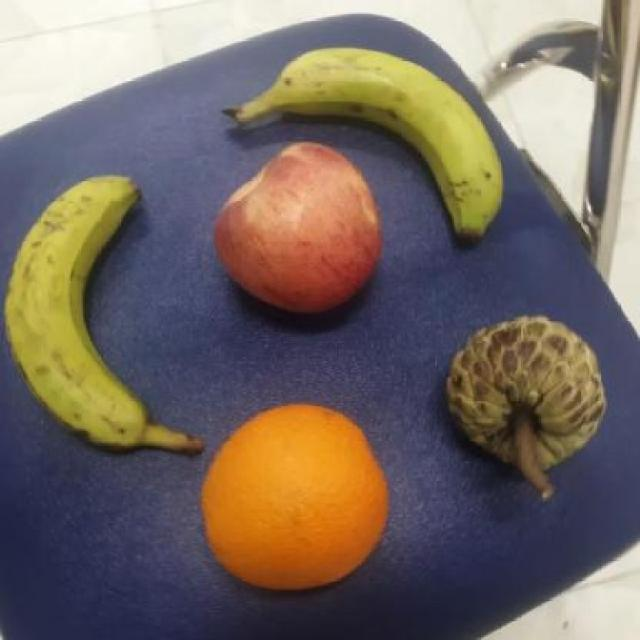apple: (210, 138, 388, 324)
banana: (0, 173, 198, 461), (233, 43, 509, 246)
oren: (196, 388, 390, 600)
sugar apple: (434, 306, 617, 505)
